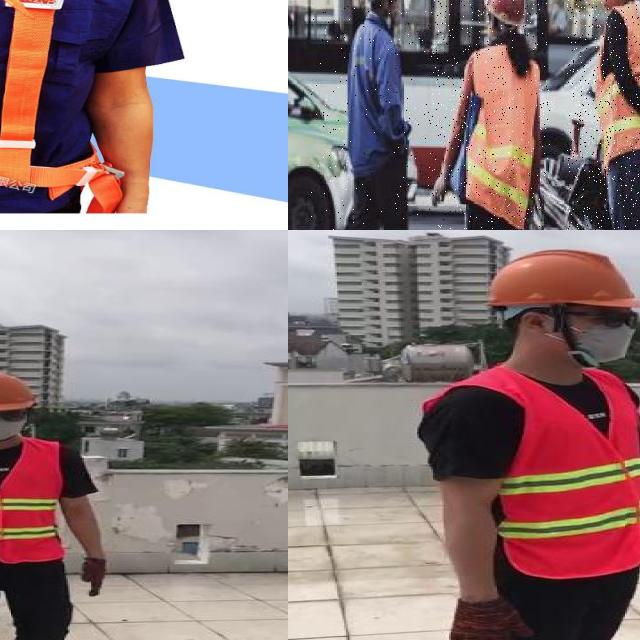Harness: (0, 0, 88, 182)
face_mask: (557, 306, 640, 363), (0, 403, 30, 444)
glasses: (582, 307, 640, 334), (0, 407, 29, 425)
hand_glove: (449, 599, 532, 640), (80, 558, 106, 598)
head_helmet: (478, 249, 640, 315), (0, 371, 38, 411), (483, 0, 527, 28)
person: (411, 248, 640, 640), (0, 369, 113, 640), (310, 0, 433, 230), (432, 0, 550, 230), (567, 0, 640, 230)
vest: (491, 368, 640, 576), (464, 46, 541, 230), (0, 440, 66, 566), (596, 2, 640, 177)
